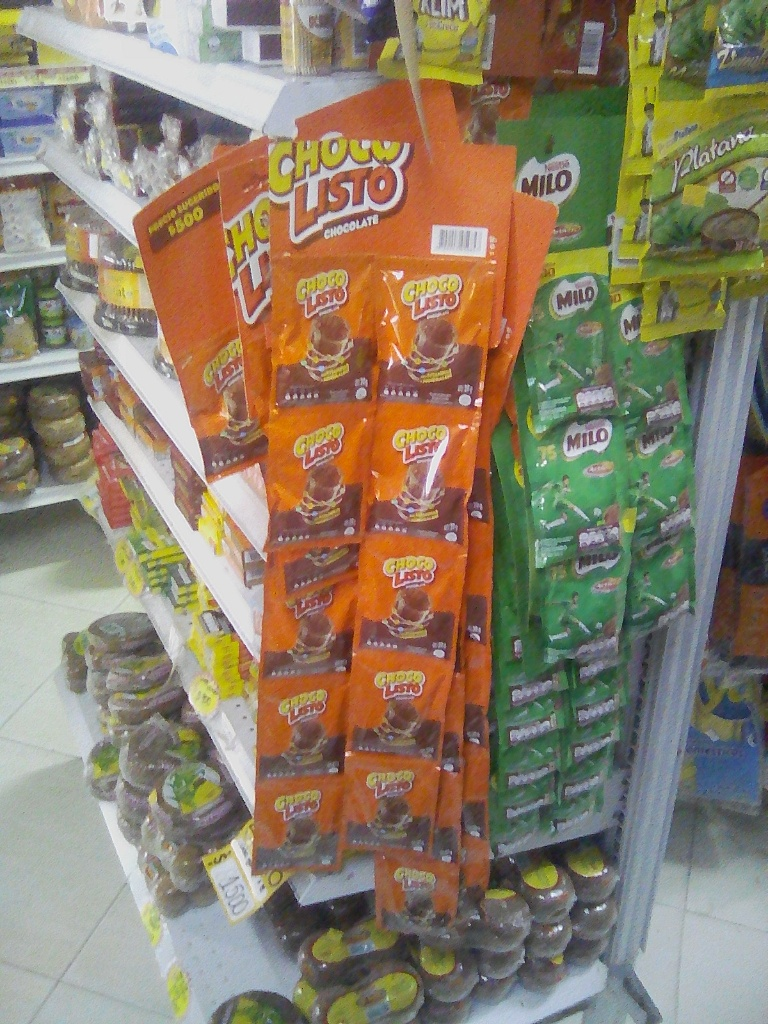COL0170103SOB02000: (270, 255, 376, 405)
